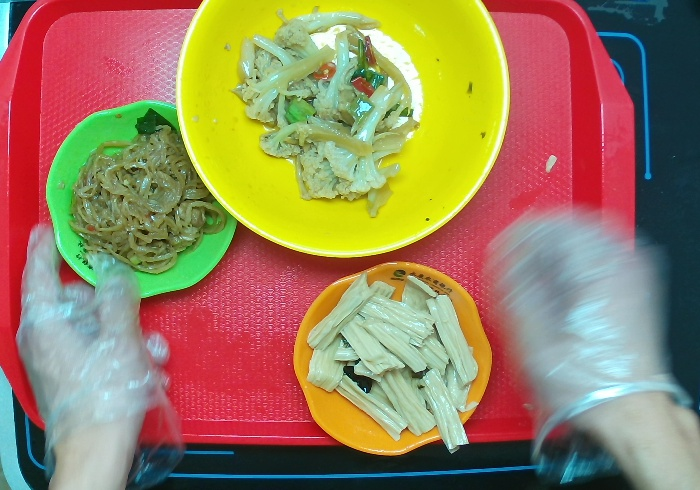YKMZ-Huang_Se_Tang_Wan: (169, 1, 522, 266)
YKMZ-Ju_Se_Ao_Bian_Wan: (284, 255, 497, 459)
YKMZ-Lv_Se_Ao_Bian_Wan: (39, 92, 242, 299)
